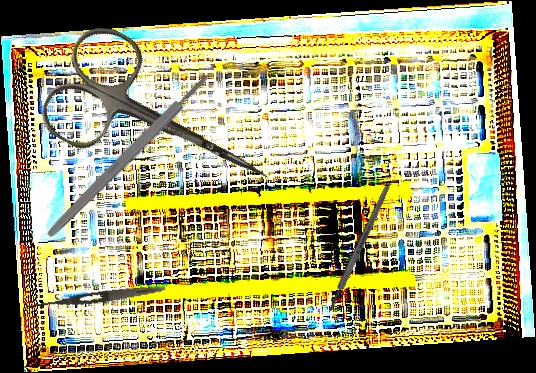Dressing Forceps: (22, 282, 167, 314)
Iris Scissors: (32, 16, 296, 234)
Scalpel Handle: (44, 71, 213, 240), (326, 184, 392, 313)
